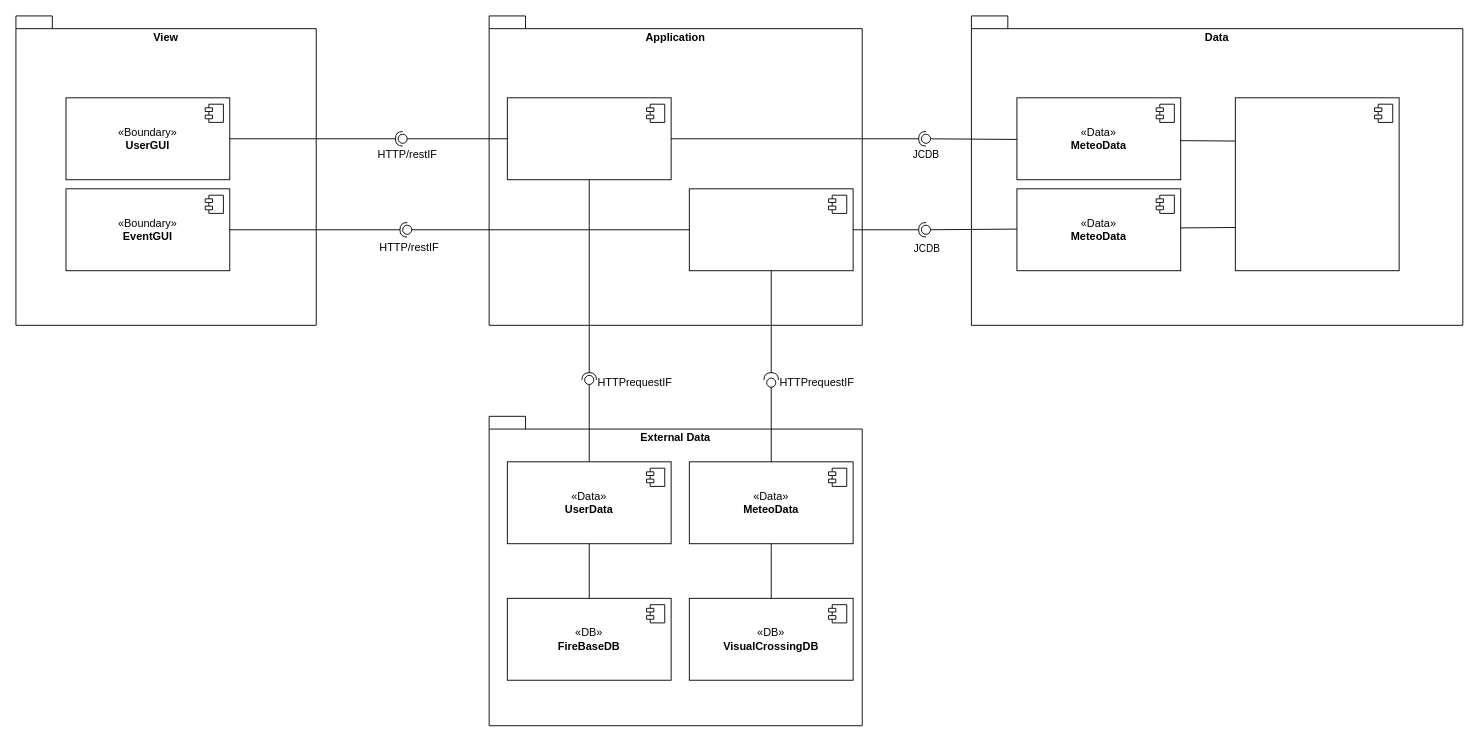
Some shapes in this 1479 by 742 pixel diagram are drawn without their labels. The shapes that lost their labels are listed below. From the top down, each one's centre as x and y in pixels, then its label:
At pixel 588 138: "«Controller» UserManager".
At pixel 1316 184: "«Data» Database".
At pixel 770 229: "«Controller» EventManager".
